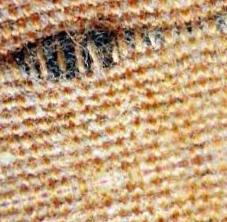slub: (2, 19, 227, 83)
